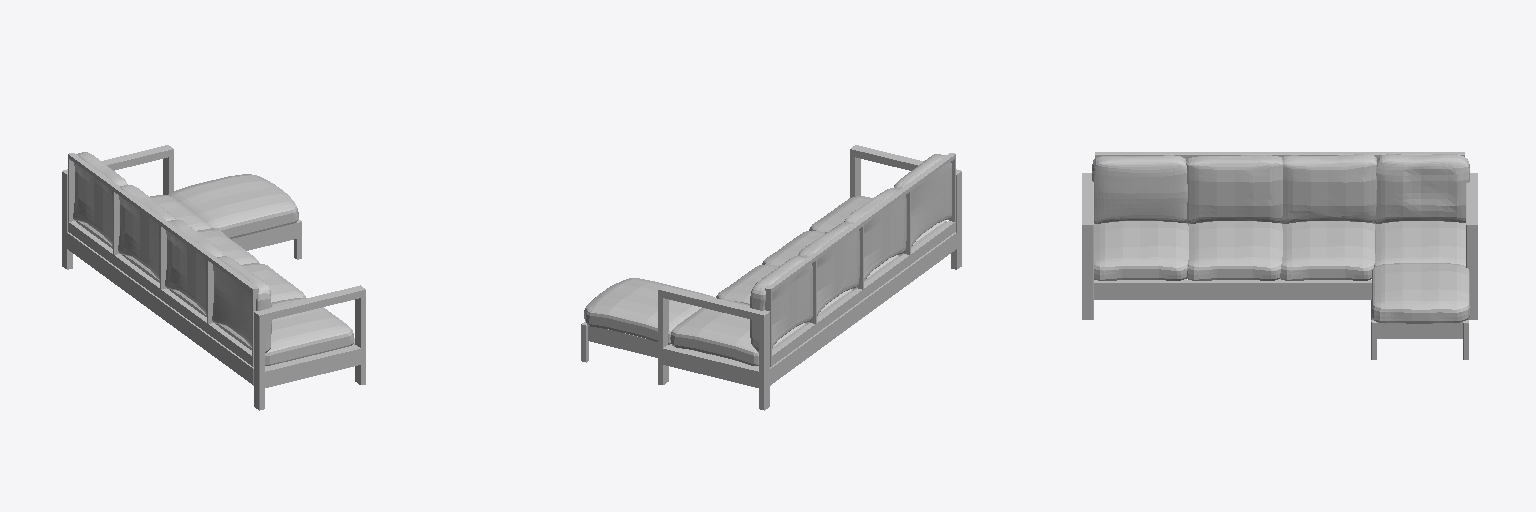
The model's file is sofa.obj.
3 views of the same model, side by side, from view 1: azimuth 30°, elevation 25°; view 2: azimuth 150°, elevation 25°; view 3: azimuth 270°, elevation 25° (orthographic).
Visible parts, largest first — view 1: SOFA_JOYSTYLE_Cube, Cube.009, Cube.001_Cube.003, Cube.002, Cube.004, Cube.006, Cube.008, Cube.003, Cube.005_Cube.003, Cube.007_Cube.003; view 2: SOFA_JOYSTYLE_Cube, Cube.009, Cube.007_Cube.003, Cube.008, Cube.006, Cube.004, Cube.002, Cube.005_Cube.003, Cube.001_Cube.003, Cube.003; view 3: SOFA_JOYSTYLE_Cube, Cube.004, Cube.006, Cube.002, Cube.008, Cube.009, Cube.001_Cube.003, Cube.003, Cube.005_Cube.003, Cube.007_Cube.003.
Part boxes in pixels (x1,y1,x2,y2): SOFA_JOYSTYLE_Cube: (62, 145, 365, 410); Cube.009: (168, 174, 298, 238); Cube.001_Cube.003: (216, 298, 353, 365); Cube.002: (212, 256, 271, 352); Cube.004: (165, 219, 223, 314); Cube.006: (118, 185, 175, 280); Cube.008: (73, 152, 127, 245); Cube.003: (170, 263, 305, 323); Cube.005_Cube.003: (123, 229, 258, 289); Cube.007_Cube.003: (76, 195, 210, 255); SOFA_JOYSTYLE_Cube: (581, 145, 961, 410); Cube.009: (584, 278, 714, 344); Cube.007_Cube.003: (670, 299, 806, 365); Cube.008: (750, 256, 812, 352); Cube.006: (798, 222, 859, 315); Cube.004: (844, 188, 906, 280); Cube.002: (894, 154, 951, 246); Cube.005_Cube.003: (716, 264, 852, 324); Cube.001_Cube.003: (809, 196, 946, 255); Cube.003: (762, 231, 899, 290); SOFA_JOYSTYLE_Cube: (1082, 152, 1477, 359); Cube.004: (1186, 155, 1282, 223); Cube.006: (1281, 154, 1376, 223); Cube.002: (1092, 155, 1187, 223); Cube.008: (1373, 154, 1469, 223); Cube.009: (1372, 263, 1469, 323); Cube.001_Cube.003: (1094, 221, 1188, 280); Cube.003: (1187, 221, 1282, 280); Cube.005_Cube.003: (1280, 221, 1375, 280); Cube.007_Cube.003: (1374, 221, 1465, 266).
Size of the model in its own units: 2.3 by 1.36 by 4.12.